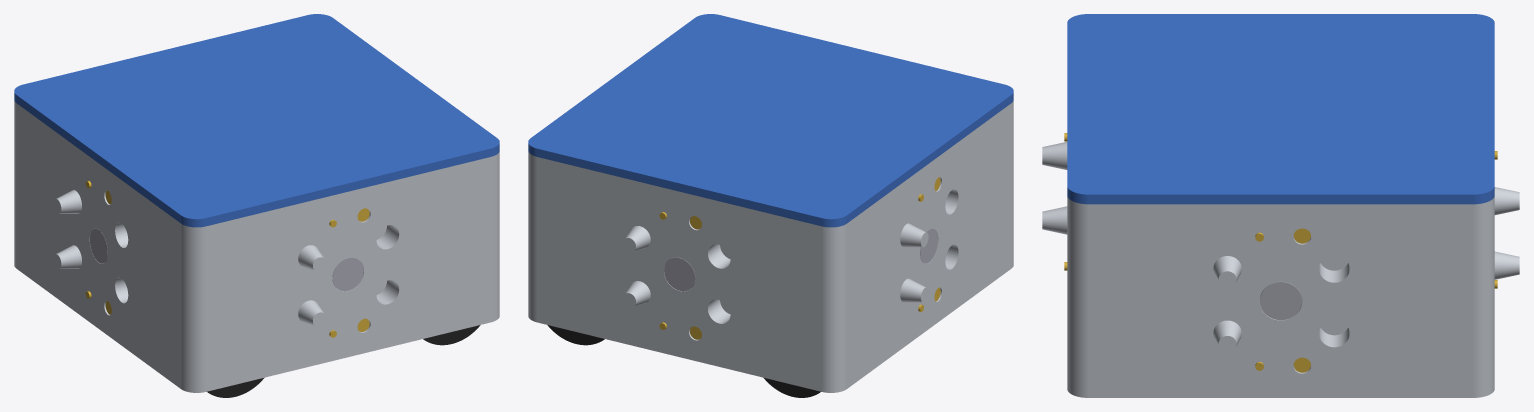
File: module1.glb
3 views of the same model, side by side, from view 1: azimuth 30°, elevation 25°; view 2: azimuth 150°, elevation 25°; view 3: azimuth 270°, elevation 25° (orthographic). The views are drawn at different scales.
Visible parts, largest first — view 1: body_1, lid_1, magnet_4, wheel_2, wheel_4, magnet_2; view 2: body_1, lid_1, magnet_3, wheel_1, wheel_3; view 3: body_1, lid_1, magnet_1.
Boxes of the visible parts, x1=… form: body_1: x1=14, y1=101, x2=499, y2=392; lid_1: x1=14, y1=14, x2=499, y2=227; magnet_4: x1=332, y1=257, x2=363, y2=291; wheel_2: x1=423, y1=325, x2=480, y2=345; wheel_4: x1=207, y1=377, x2=264, y2=397; magnet_2: x1=90, y1=228, x2=107, y2=263; body_1: x1=528, y1=101, x2=1013, y2=392; lid_1: x1=528, y1=14, x2=1013, y2=227; magnet_3: x1=664, y1=257, x2=695, y2=291; wheel_1: x1=547, y1=325, x2=604, y2=345; wheel_3: x1=763, y1=377, x2=820, y2=397; body_1: x1=1042, y1=142, x2=1519, y2=397; lid_1: x1=1067, y1=14, x2=1494, y2=204; magnet_1: x1=1260, y1=281, x2=1301, y2=320.
Size of the model in its own units: 0.134 by 0.069 by 0.134.
